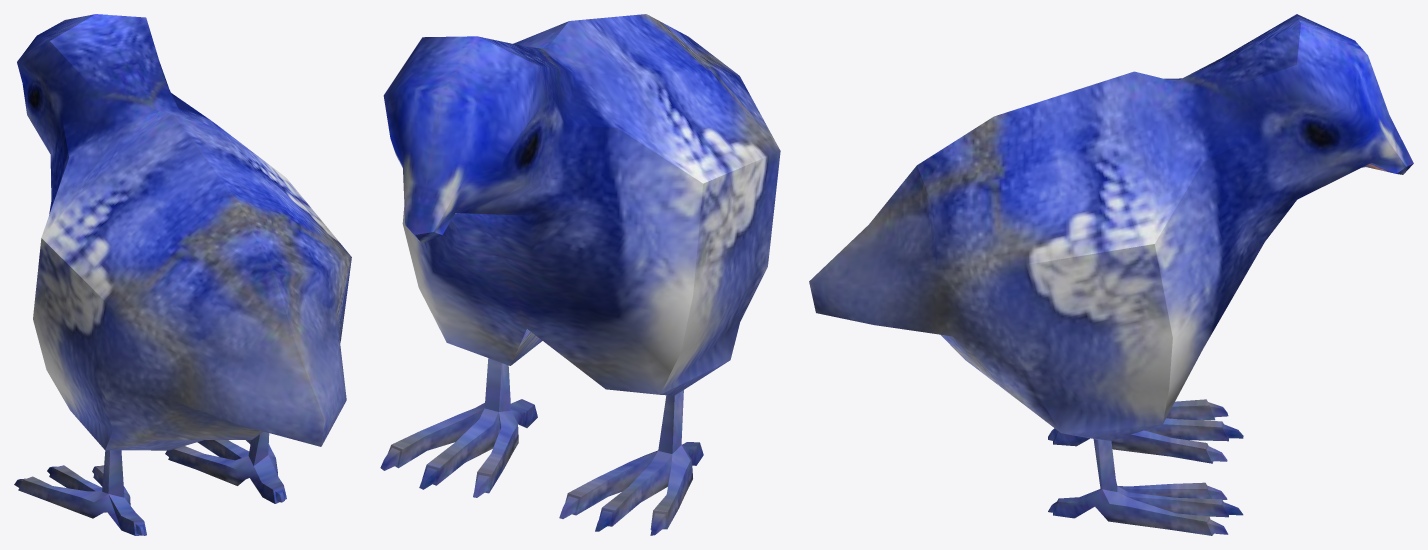
Rendered from azul.gltf.
The picture shows the model from 3 angles, left to right: view 1: azimuth 30°, elevation 25°; view 2: azimuth 150°, elevation 25°; view 3: azimuth 270°, elevation 25°; orthographic projection. The views are drawn at different scales.
Visible parts, largest first — view 1: U3DMesh_mat_3_0; view 2: U3DMesh_mat_3_0; view 3: U3DMesh_mat_3_0.
Part boxes in pixels (x1,y1,x2,y2): U3DMesh_mat_3_0: [14, 14, 351, 535]; U3DMesh_mat_3_0: [380, 14, 780, 535]; U3DMesh_mat_3_0: [809, 14, 1413, 535].
Size of the model in its own units: 0.2473 by 0.4081 by 0.4908.
1 material, 1 textured.
